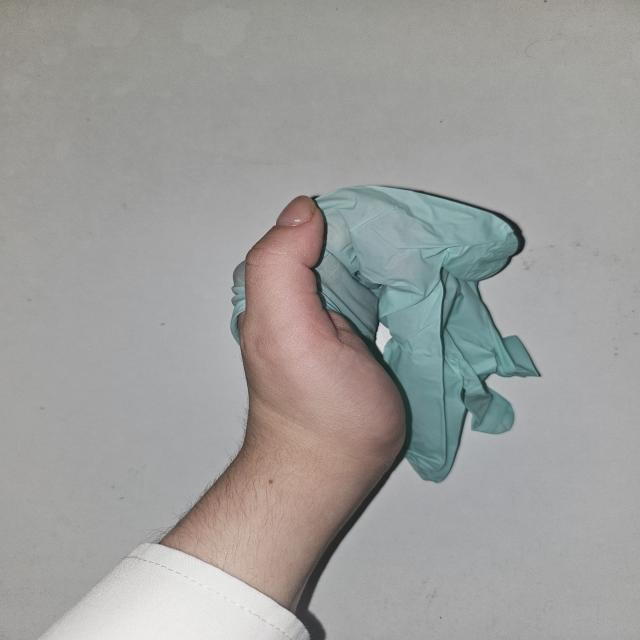glove_partial: (224, 182, 540, 486)
